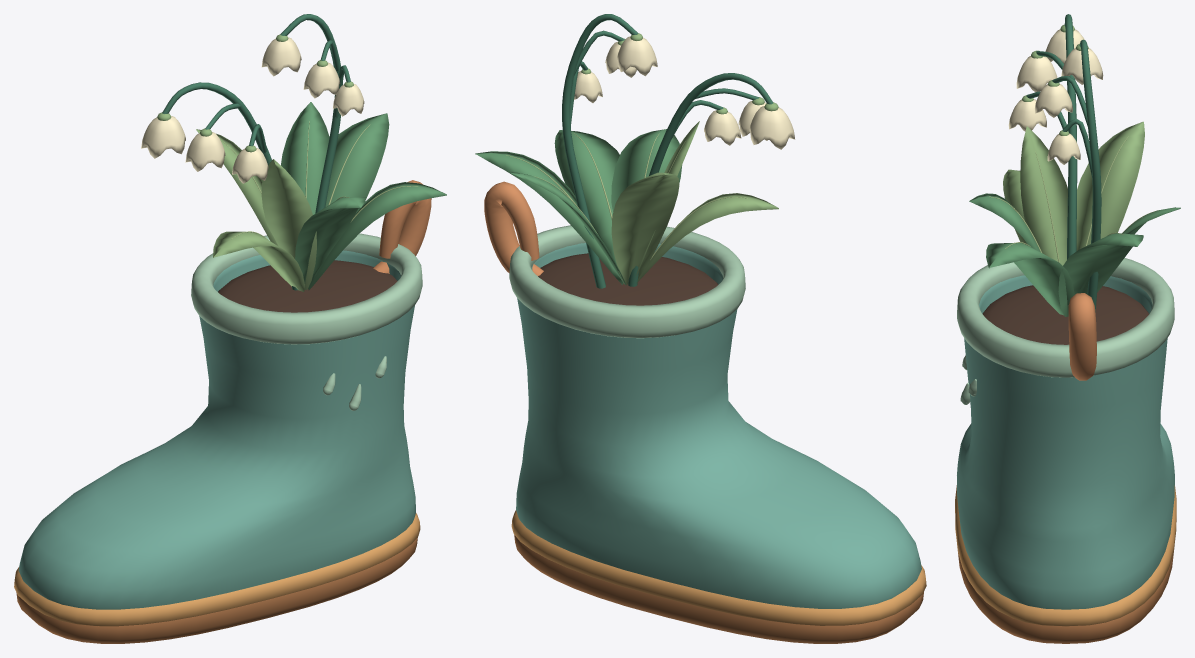
Rendered from rainboot-planter.glb.
3 renders of one model, left to right at view 1: azimuth 30°, elevation 25°; view 2: azimuth 150°, elevation 25°; view 3: azimuth 270°, elevation 25°, orthographic. The views are drawn at different scales.
Parts seen in each view (by area): view 1: rainbootPlanter; view 2: rainbootPlanter; view 3: rainbootPlanter.
Boxes of the visible parts, x1,y1,x2,y2 form: rainbootPlanter: (14,14,446,643); rainbootPlanter: (475,14,926,643); rainbootPlanter: (955,14,1180,643).
Size of the model in its own units: 0.5682 by 0.7188 by 0.2617.
